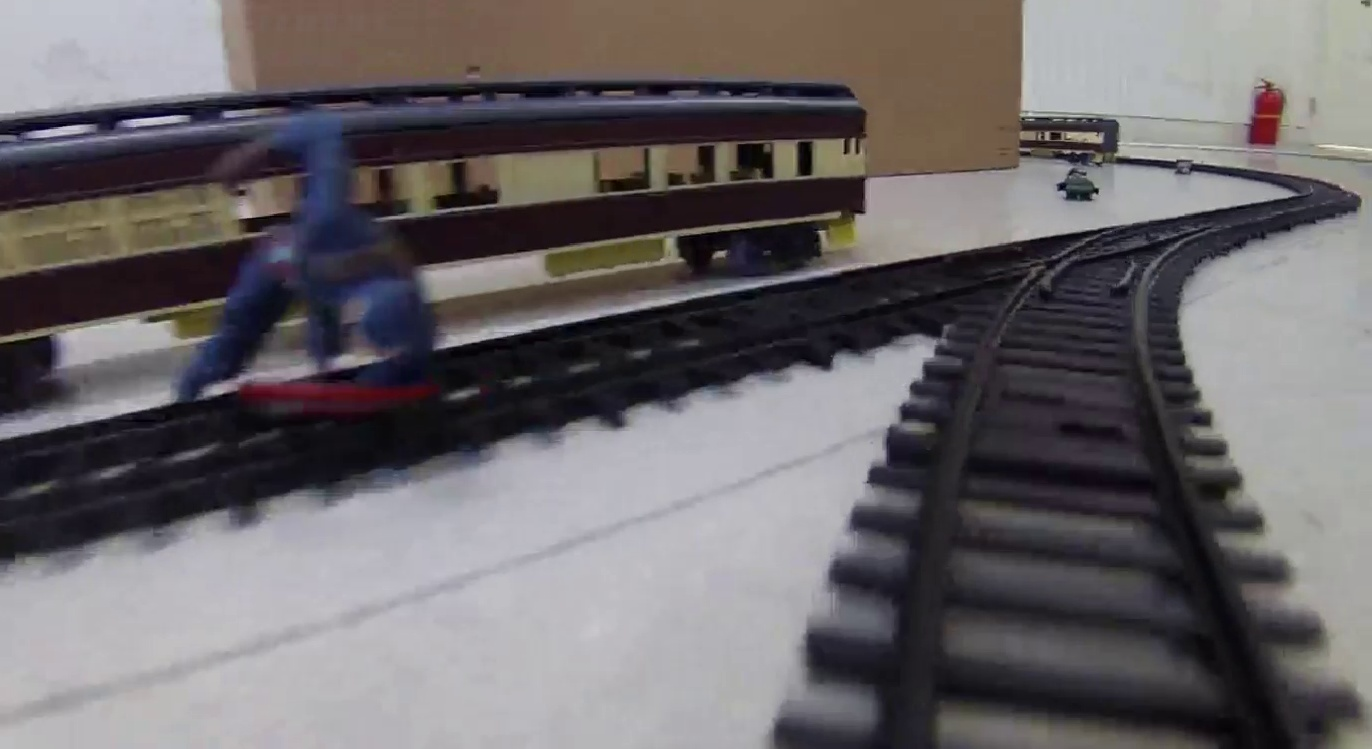people: (174, 110, 441, 411)
